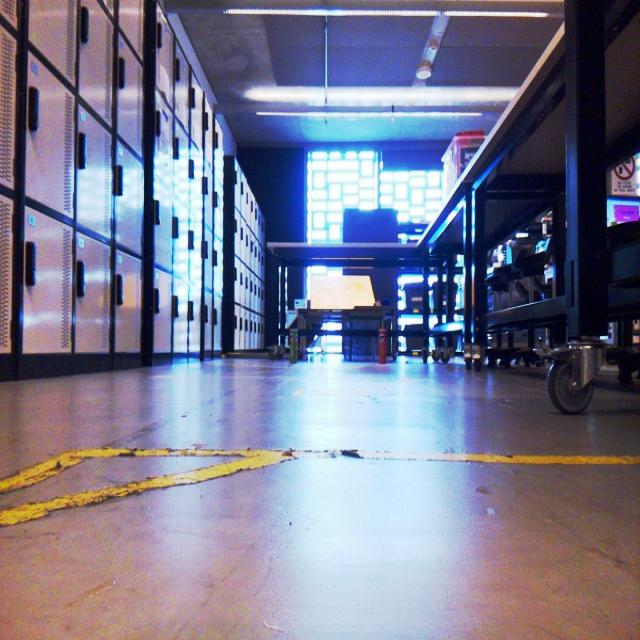greenpringles: (282, 316, 308, 374)
redpringles: (372, 314, 394, 372)
